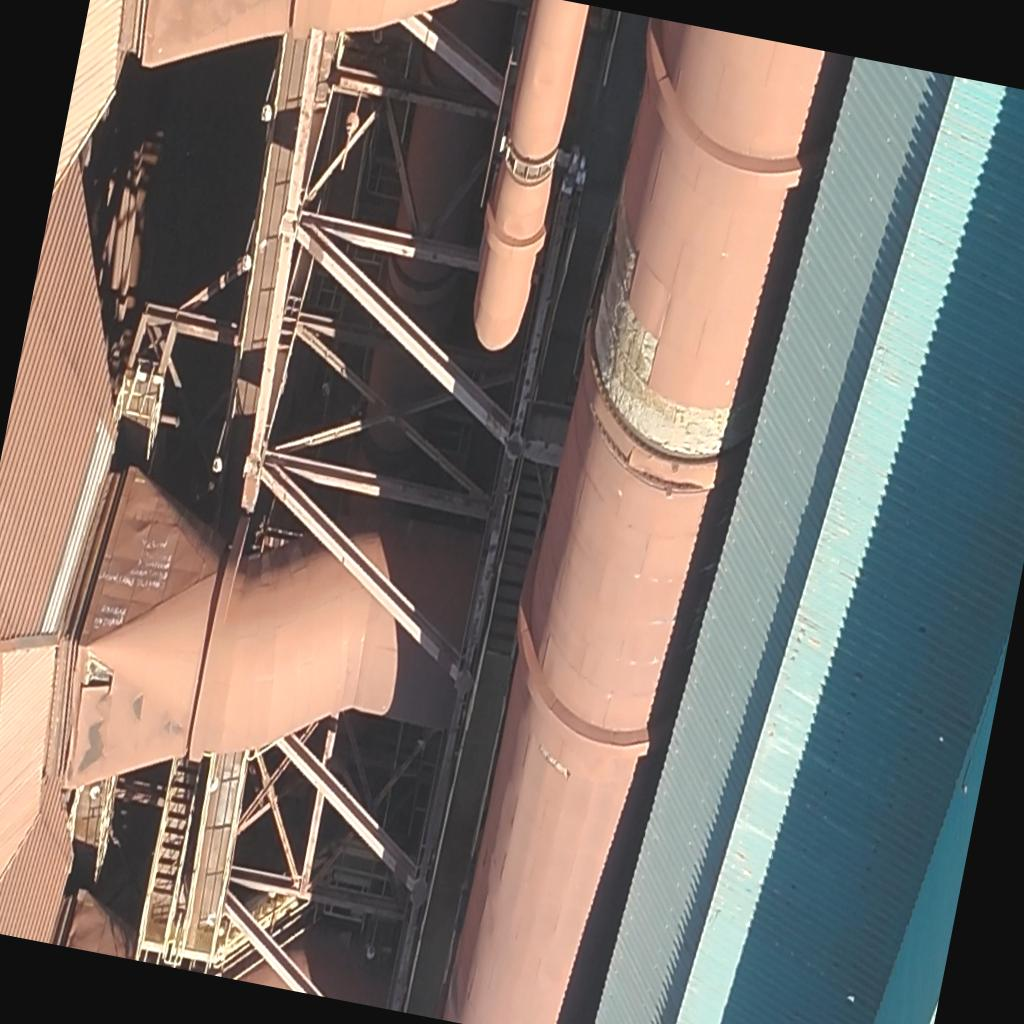Failures: (569, 216, 789, 490)
